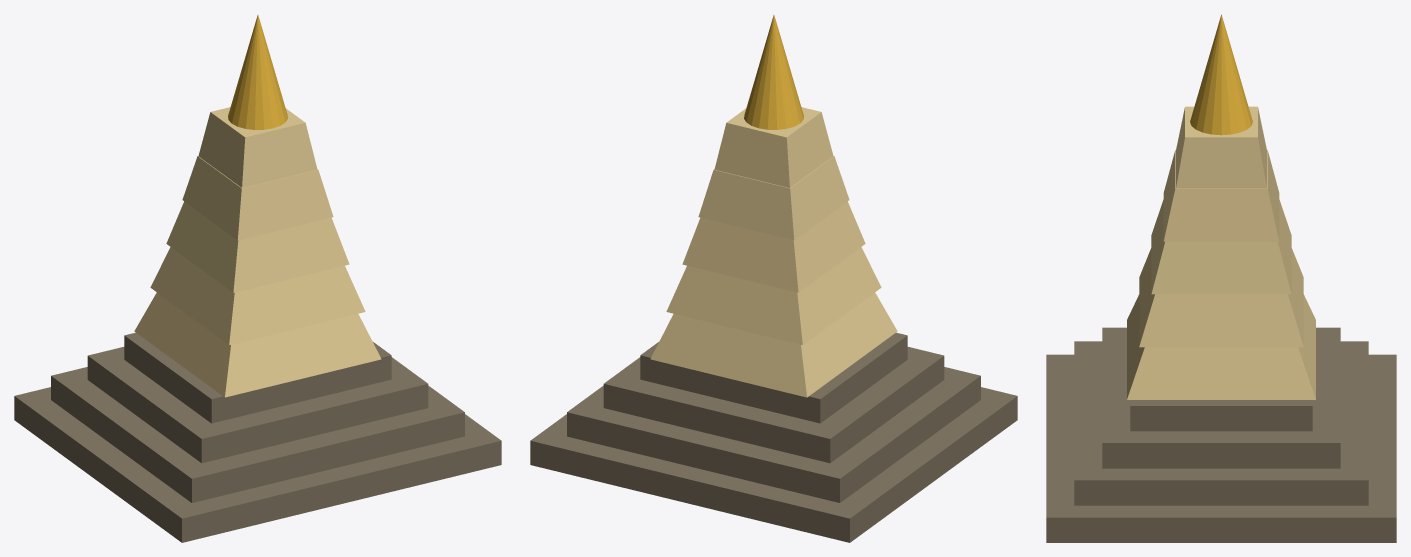
The model's file is building_prasat.fbx.
3 views of the same model, side by side, from view 1: azimuth 30°, elevation 25°; view 2: azimuth 150°, elevation 25°; view 3: azimuth 270°, elevation 25° (orthographic). The views are drawn at different scales.
Visible parts, largest first — view 1: building_prasat; view 2: building_prasat; view 3: building_prasat.
Part boxes in pixels (bbox=[...]): building_prasat: bbox=[14, 15, 501, 542]; building_prasat: bbox=[530, 15, 1017, 542]; building_prasat: bbox=[1046, 14, 1396, 542].
Size of the model in its own units: 55 by 70.5 by 50.
